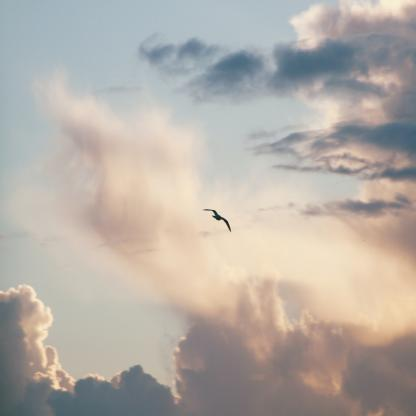bird: (202, 208, 232, 235)
